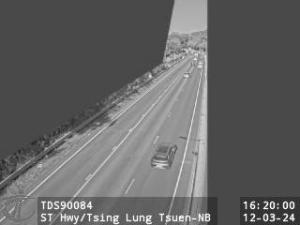vehicle: (150, 142, 178, 170), (183, 72, 190, 78), (198, 62, 202, 68)
